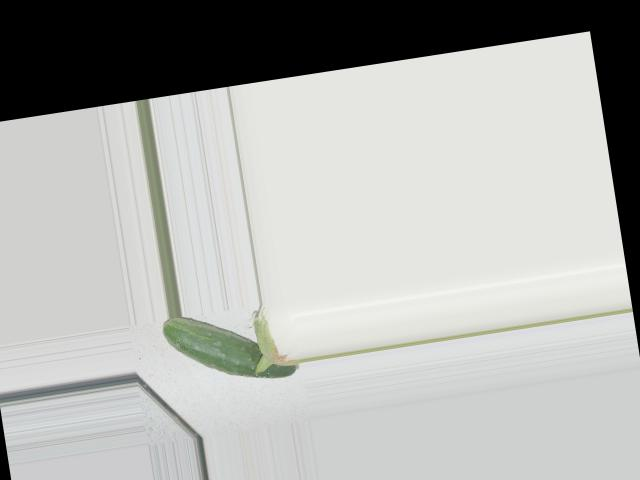cucumber: (160, 299, 300, 393)
